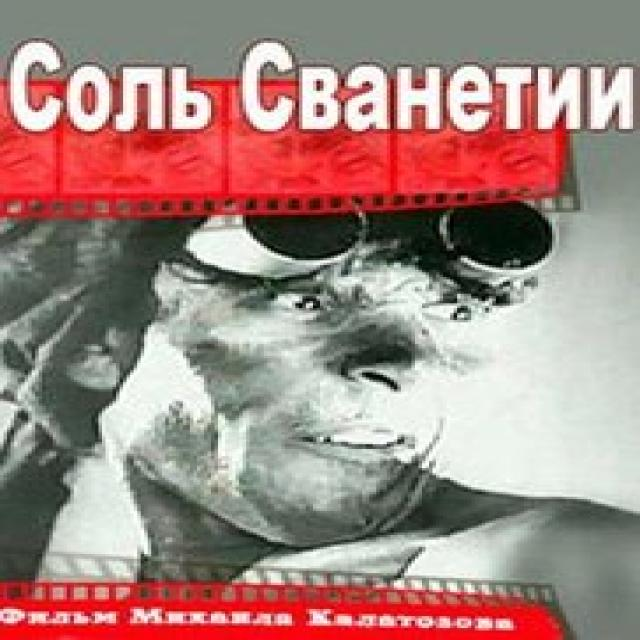movie-judul: (2, 32, 640, 151)
picture: (2, 74, 640, 640)
